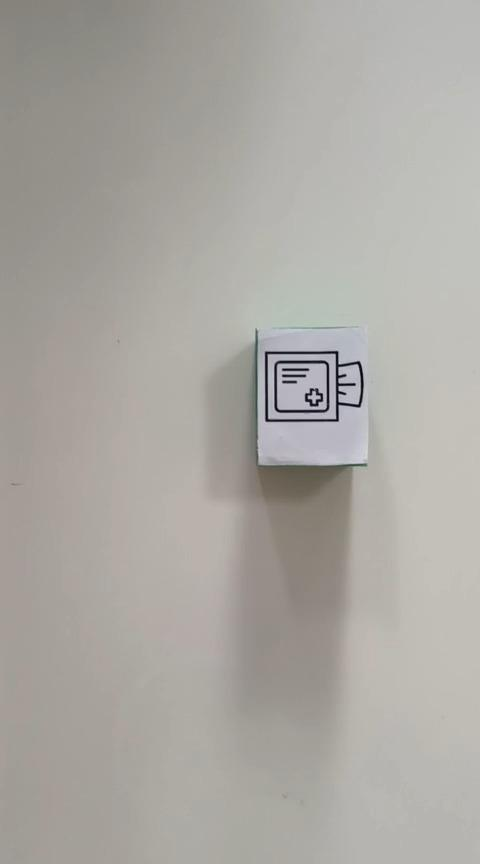Gauze: (254, 324, 369, 467)
